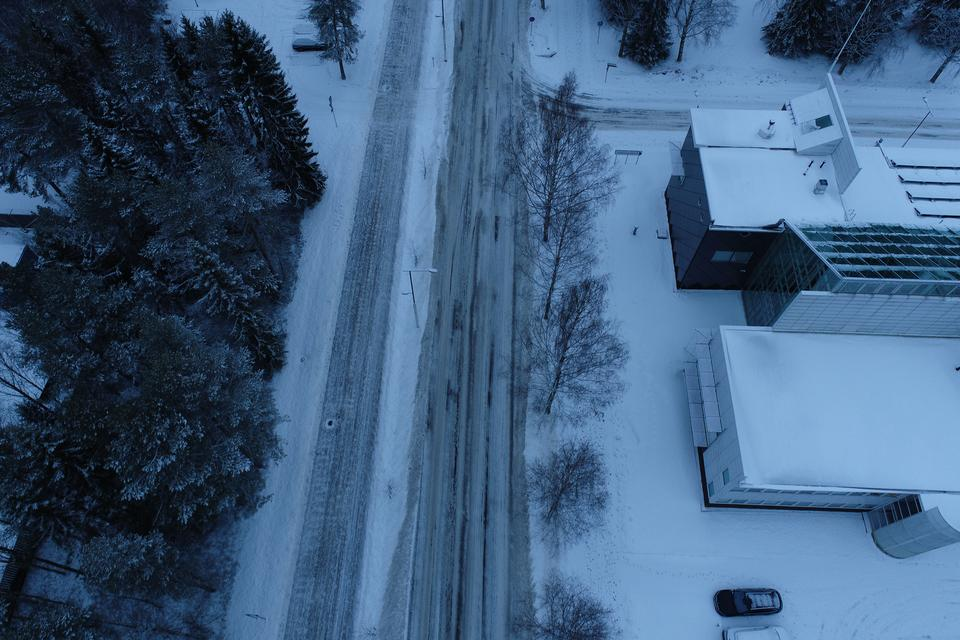intersection: (338, 61, 612, 180)
